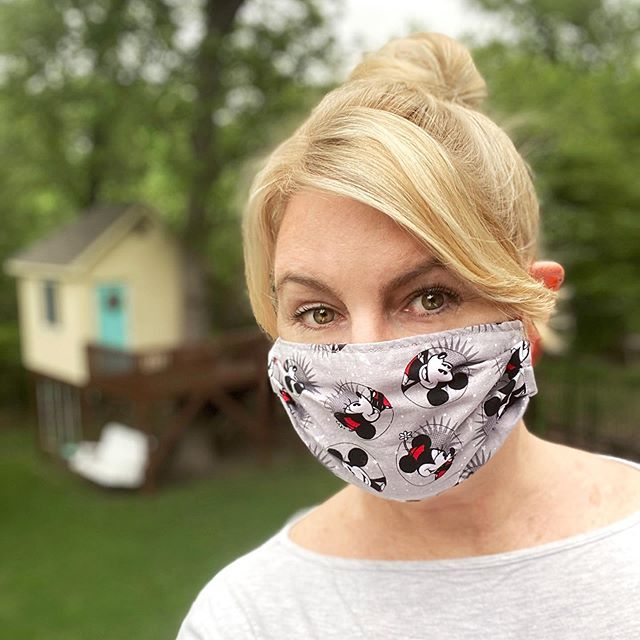homemade: (253, 334, 564, 500)
